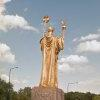Statue: (29, 10, 71, 88)
